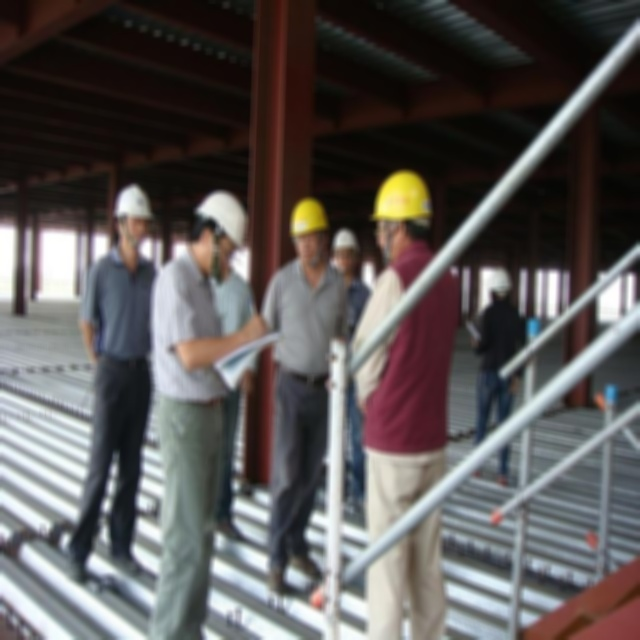Con_Casco: (291, 197, 329, 259), (117, 185, 151, 252)
